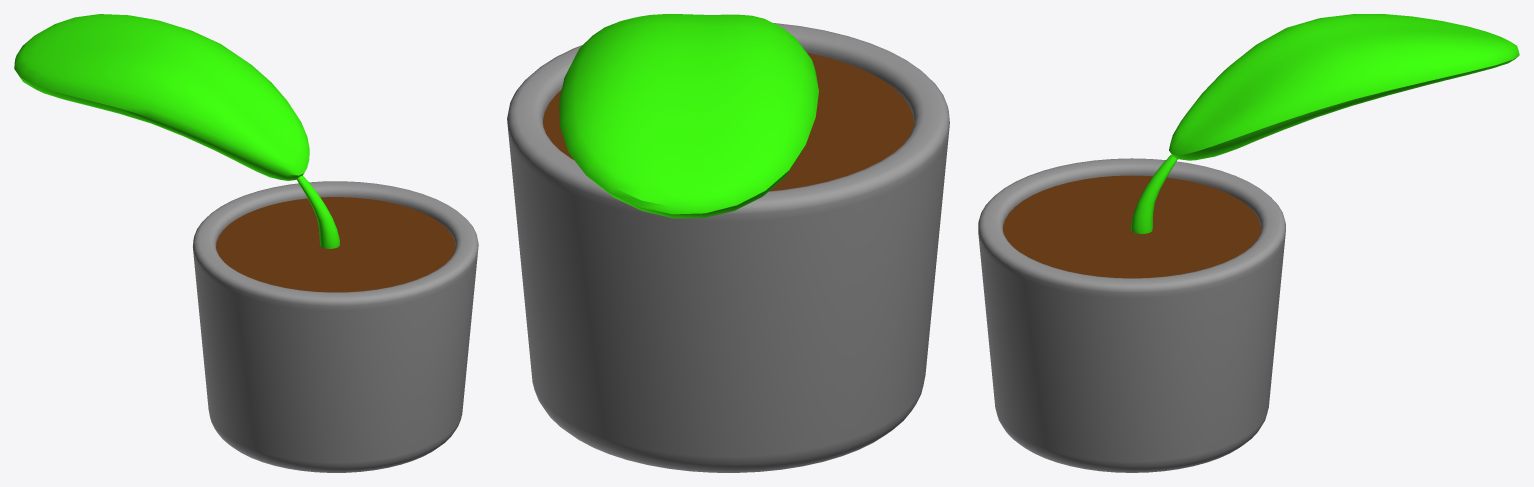
3 views of the same model, side by side, from view 1: azimuth 30°, elevation 25°; view 2: azimuth 150°, elevation 25°; view 3: azimuth 270°, elevation 25° (orthographic). The views are drawn at different scales.
Visible parts, largest first — view 1: Pot, Leaf; view 2: Pot, Leaf; view 3: Pot, Leaf.
Part boxes in pixels (x1,y1,x2,y2): Pot: (193, 181, 478, 472); Leaf: (14, 14, 339, 248); Pot: (507, 23, 949, 472); Leaf: (559, 14, 818, 218); Pot: (978, 158, 1285, 472); Leaf: (1131, 14, 1519, 233).
Bounding box in the file's own units: 94.2 × 99.67 × 139.
